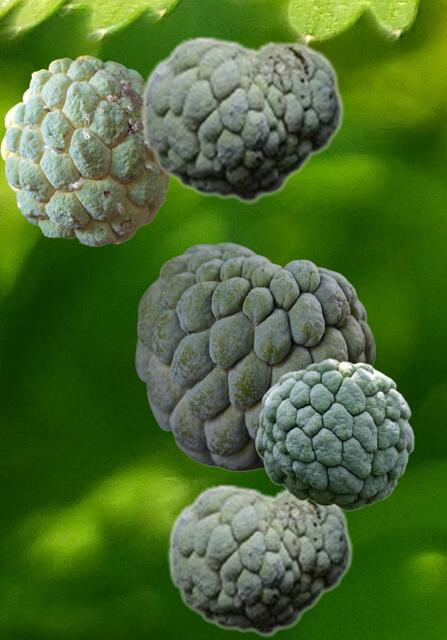atis: (135, 242, 374, 470), (140, 35, 343, 203), (0, 55, 170, 245), (167, 483, 352, 636), (255, 358, 413, 510)
